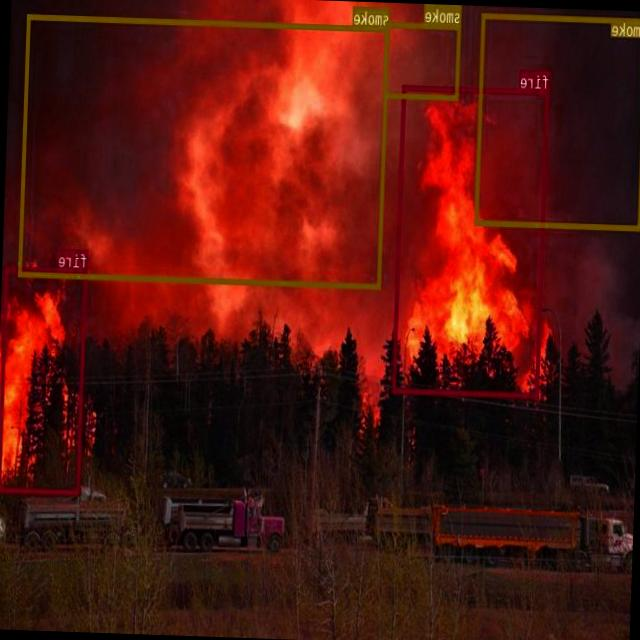fire: (392, 84, 550, 396), (0, 265, 88, 494)
smoke: (19, 14, 390, 288), (474, 12, 640, 230), (383, 21, 462, 99)
